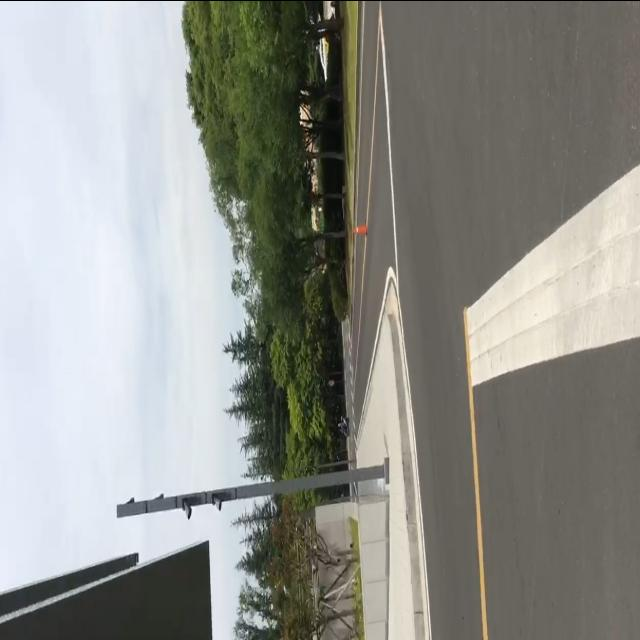obstacle: (114, 454, 394, 521), (349, 219, 371, 238)
road: (350, 0, 640, 640)
sidewalk: (356, 309, 428, 640)
